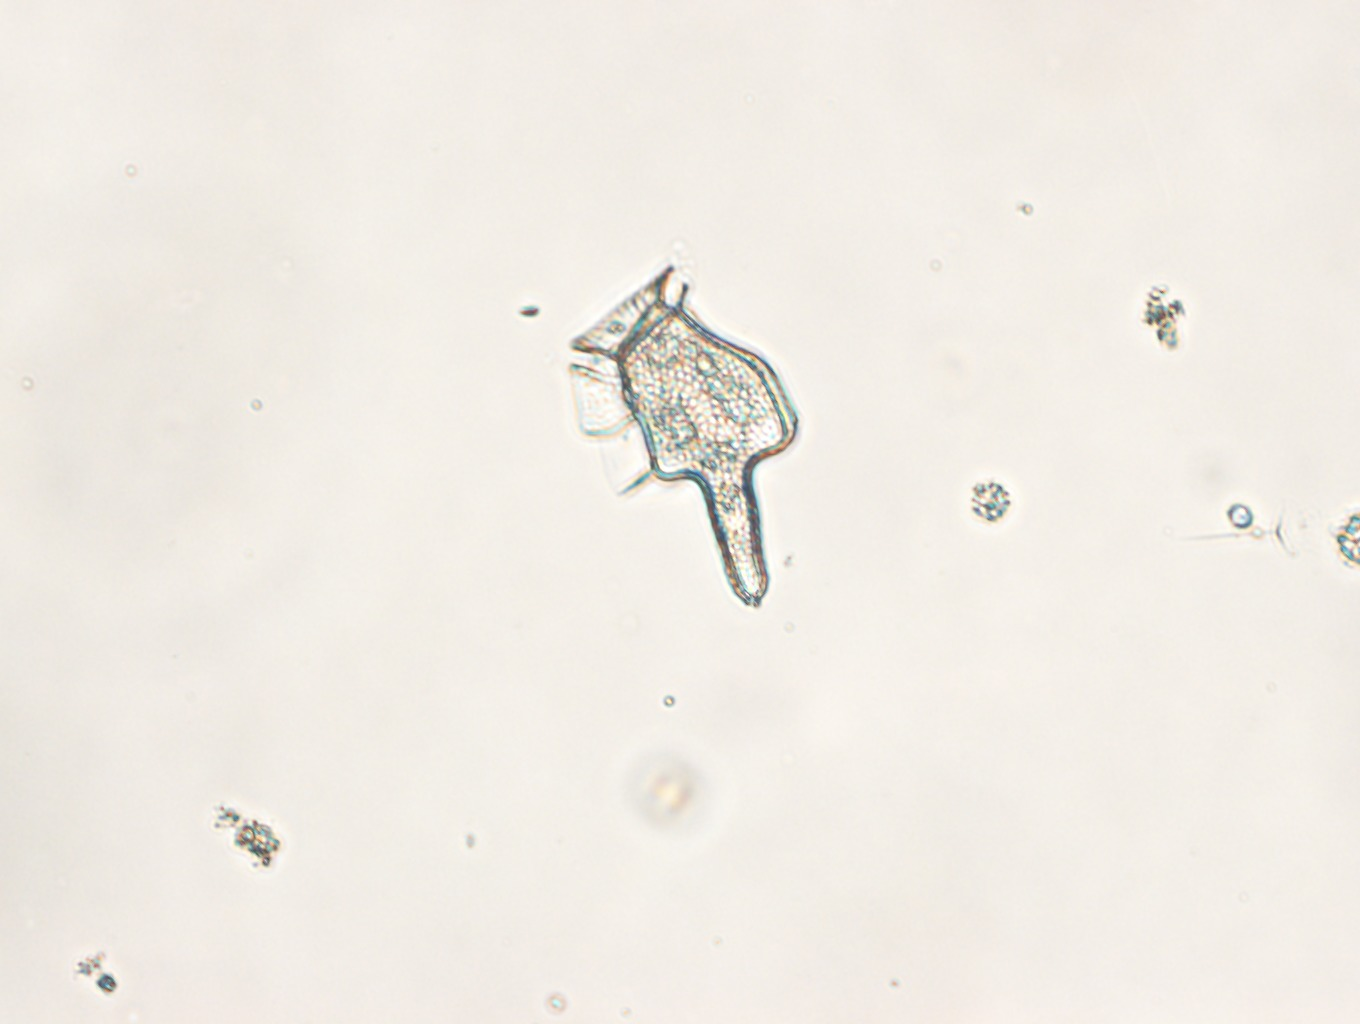dinophysis caudata: (570, 264, 799, 609)
